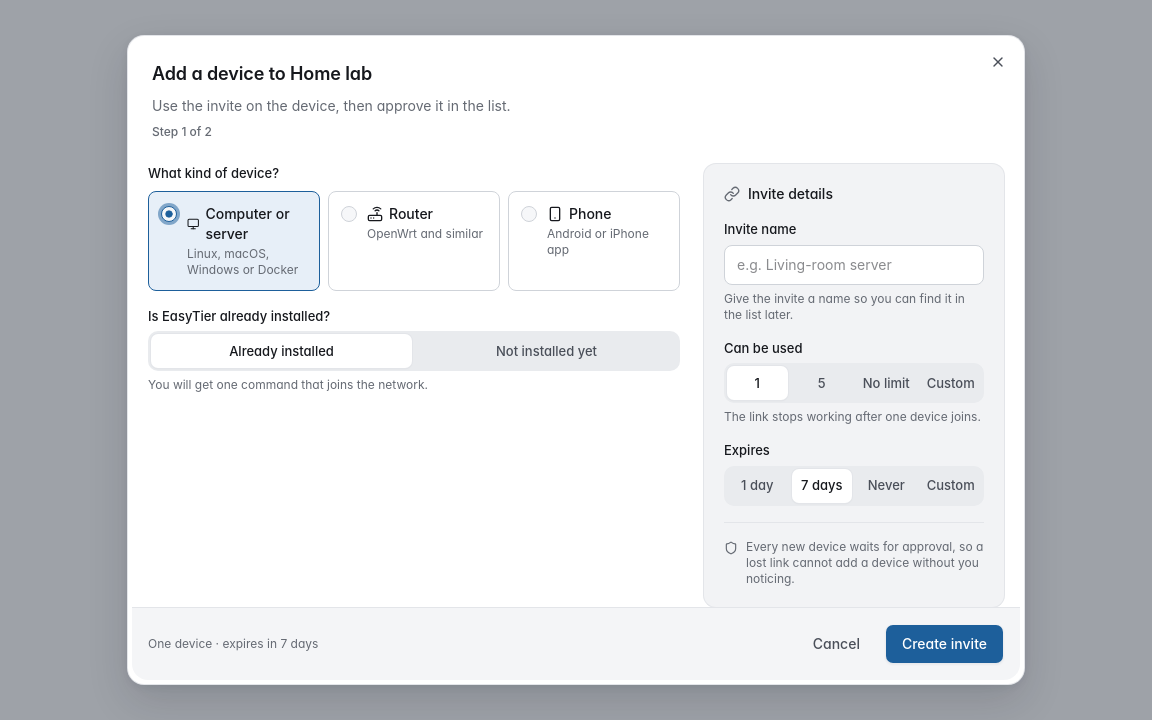
Test case: AddDeviceDialog › turns the waiting state into an approval action once the device appears
The width and height of the screenshot is (1152, 720).
Click the button "Create invite" at coordinates (944, 644), box left=885, top=624, right=1004, bottom=664
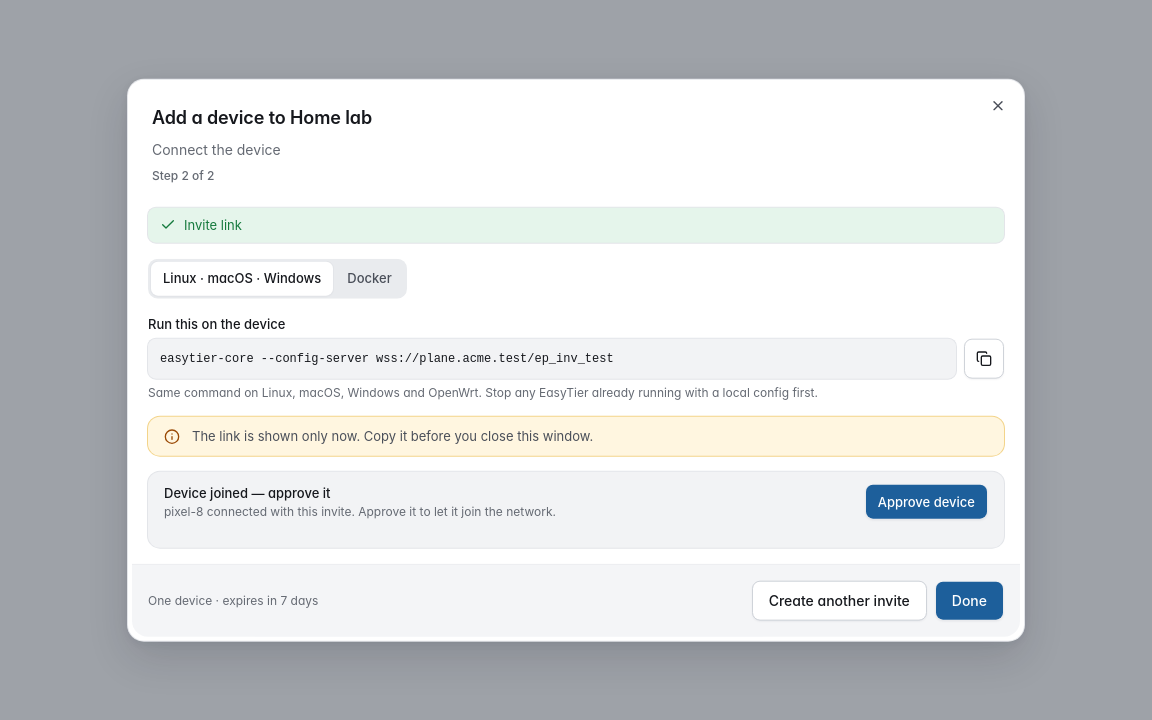
Expected: the text "Device joined — approve it" is shown, left=164, top=484, right=330, bottom=500
Expected: the text "pixel-8 connected with this invite" is shown, left=164, top=504, right=556, bottom=519
Click the button "Approve device" at coordinates (926, 502), box left=865, top=484, right=988, bottom=520
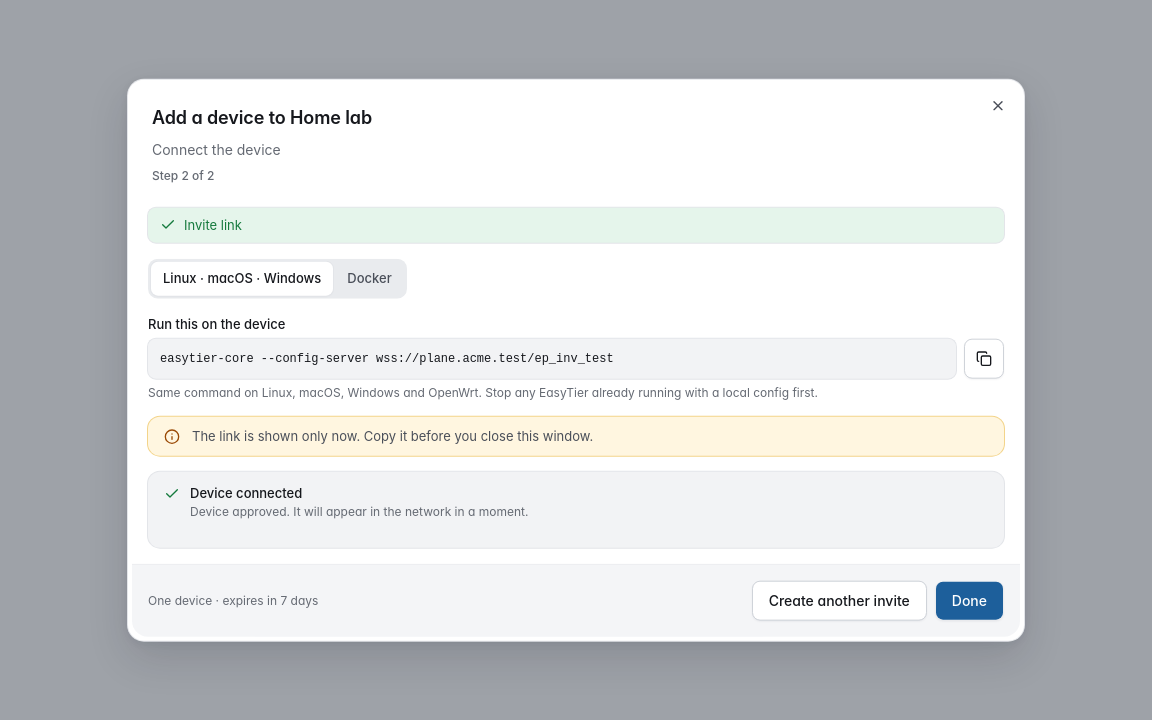
Expected: the text "Device connected" is shown, left=190, top=484, right=302, bottom=500
